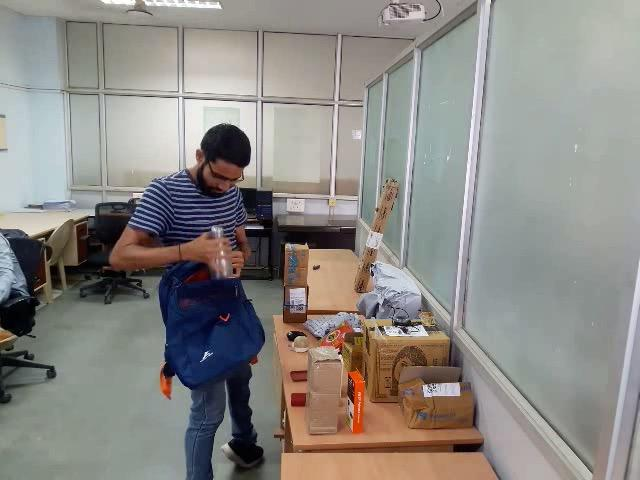Normal: (49, 52, 565, 480)
shoplifting: (115, 225, 326, 398)
